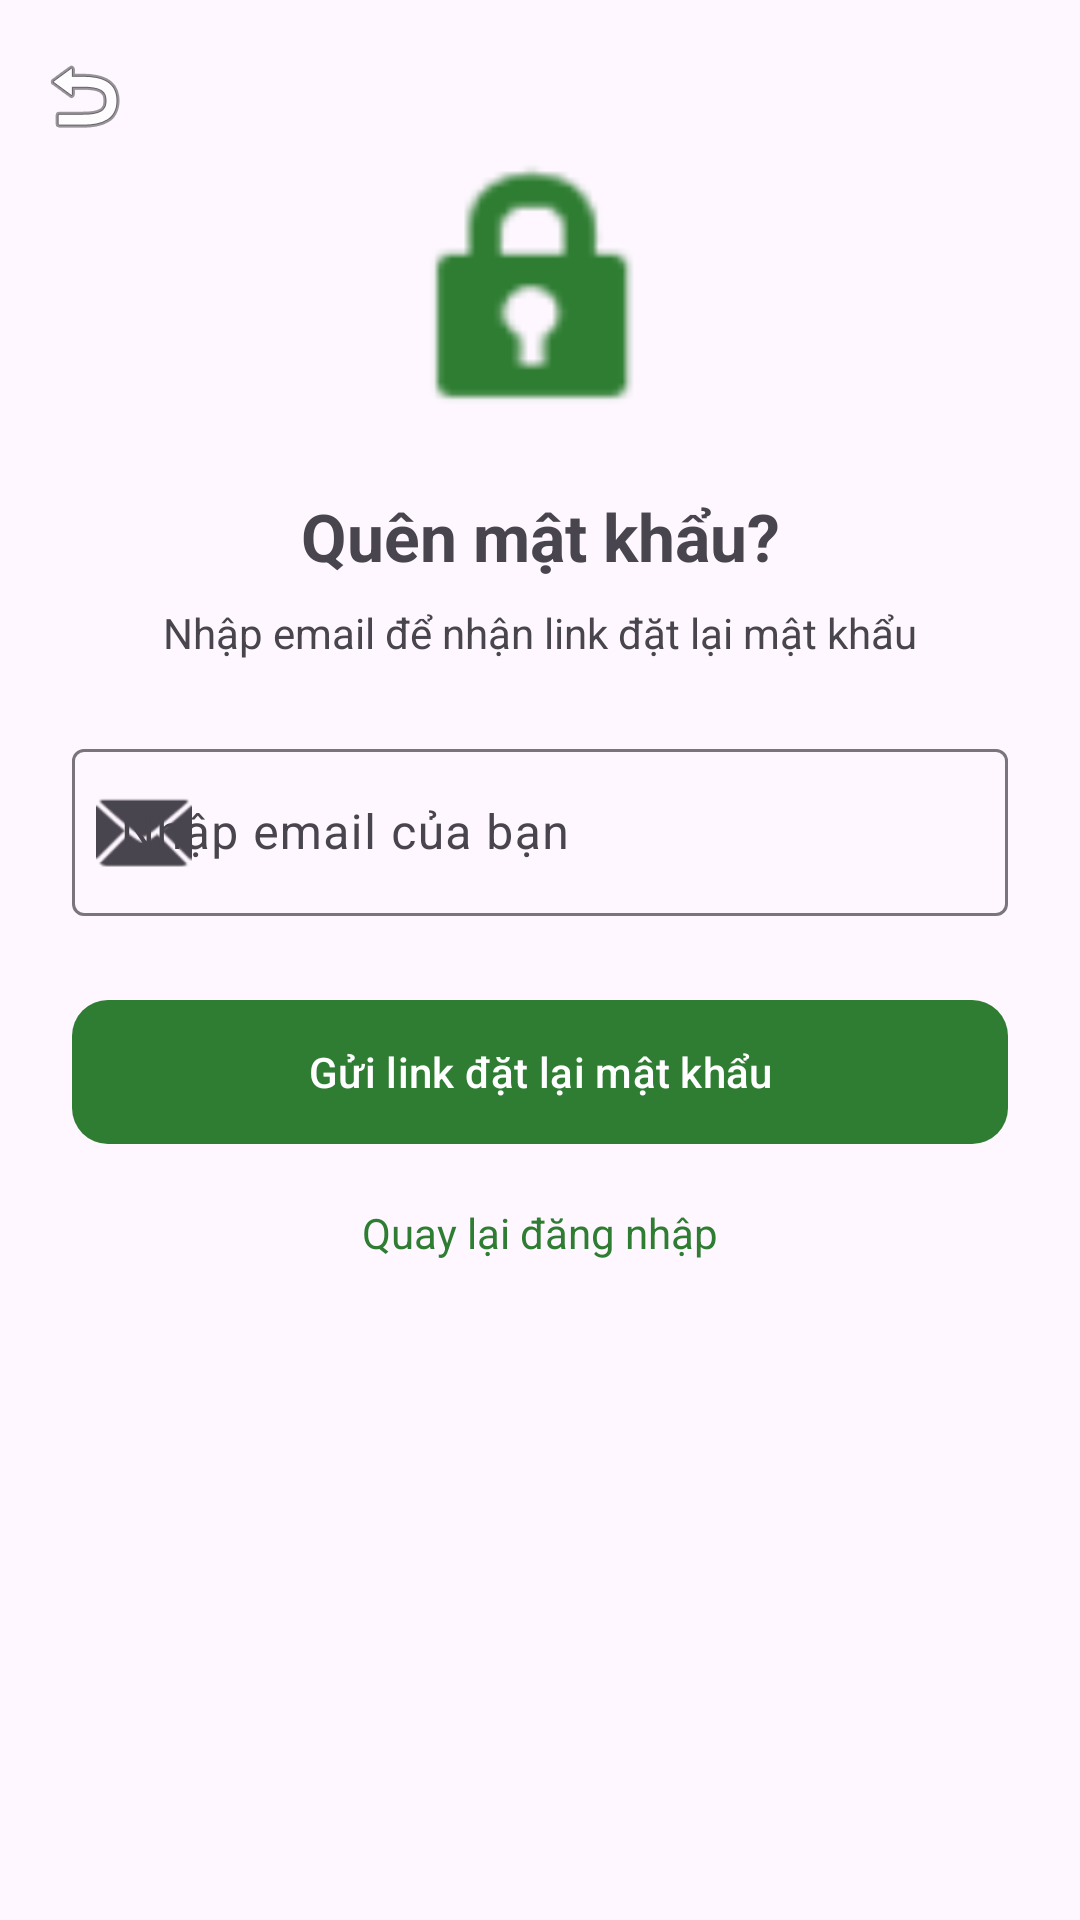

Icon bounding boxes for this 1080 × 1920 phone screenshot, format bbox=[x1, y1, x2, y2]:
lock: bbox=[435, 169, 632, 399]
